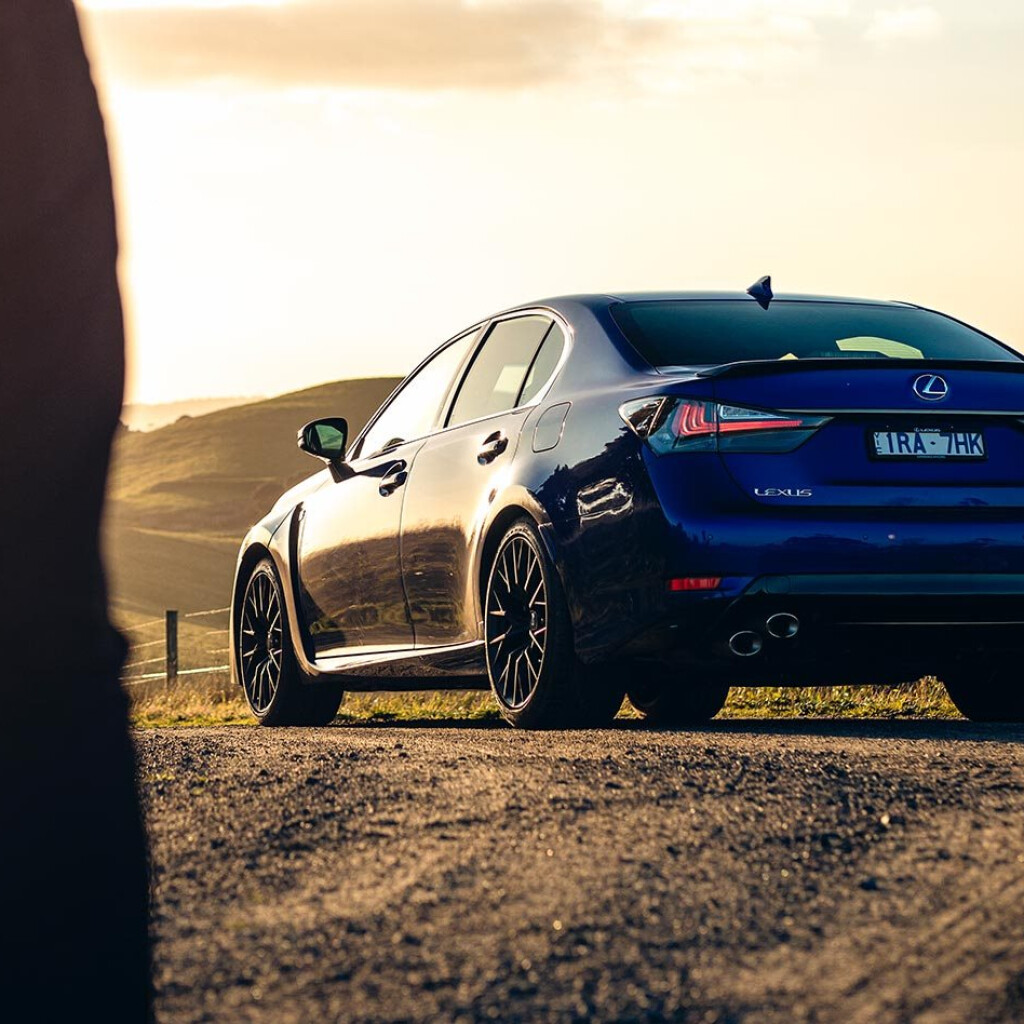car: (213, 266, 1024, 732)
